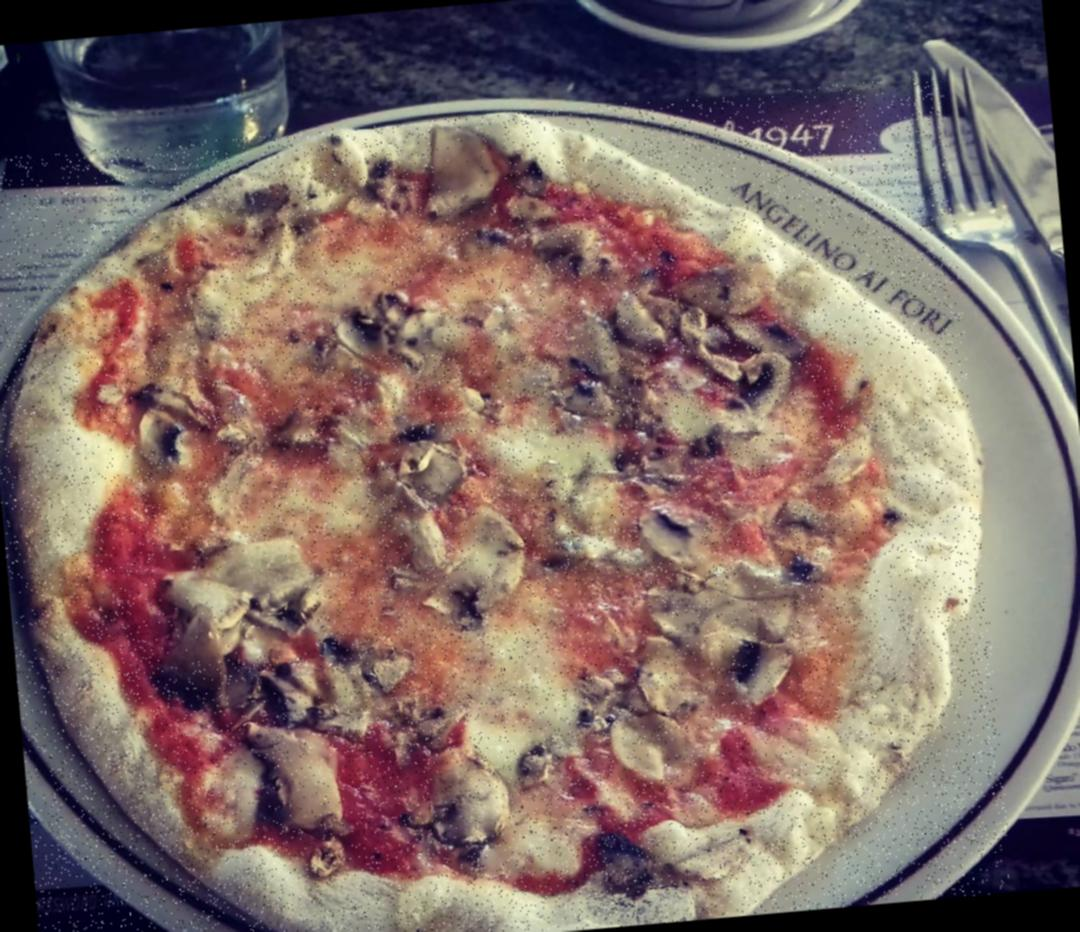Mushroom: (597, 584, 804, 778), (608, 278, 787, 432), (228, 670, 356, 832), (156, 540, 316, 666), (404, 514, 526, 616), (333, 281, 440, 360), (430, 124, 507, 207), (428, 768, 508, 838), (132, 392, 197, 463), (397, 434, 464, 494), (636, 501, 700, 560), (525, 219, 600, 269)
Pizza: (0, 75, 1013, 932)
